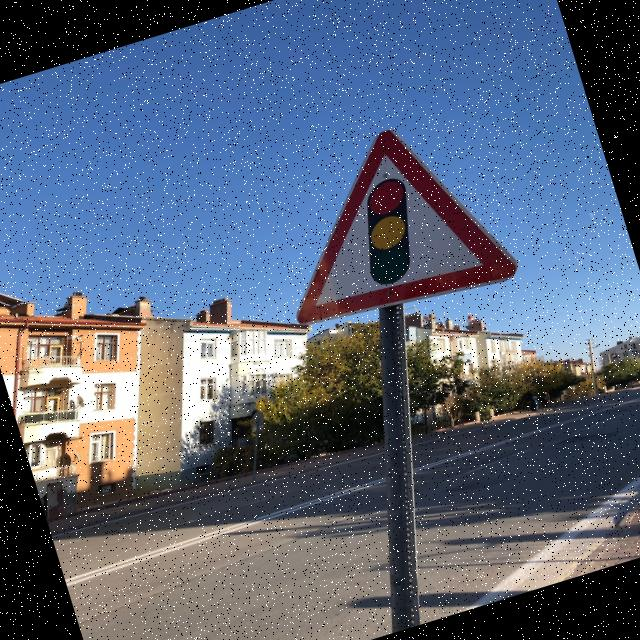light_traffic: (248, 96, 534, 342)
